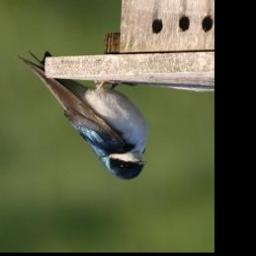Swallow: (18, 44, 151, 183)
